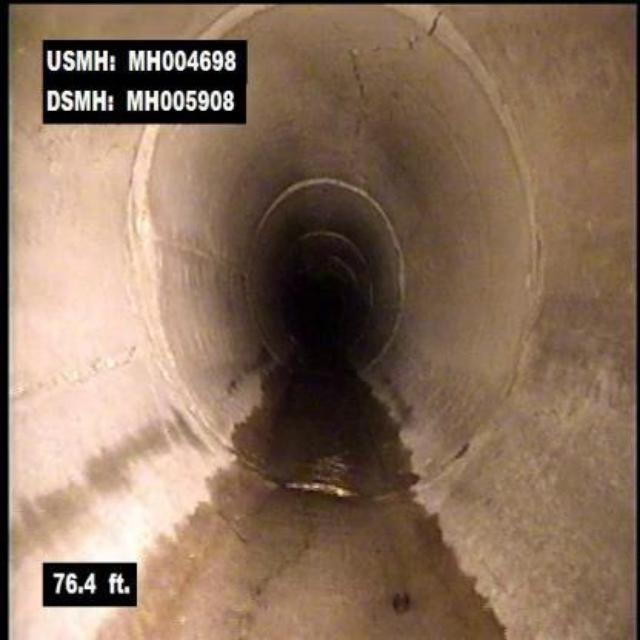Crack: (246, 532, 323, 625), (25, 349, 135, 400), (345, 37, 386, 117), (398, 14, 448, 49)
